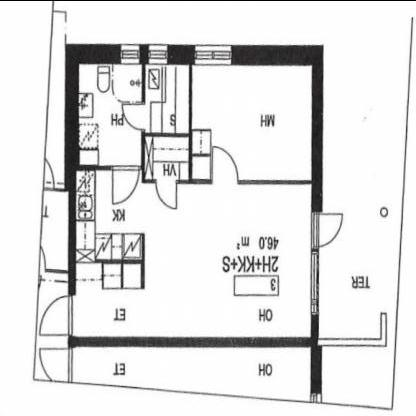door: (37, 287, 77, 341), (34, 345, 74, 387), (209, 142, 242, 192), (310, 205, 345, 249), (108, 162, 141, 208), (153, 173, 179, 211)
window: (188, 35, 234, 73), (307, 251, 322, 317), (144, 36, 172, 67), (116, 39, 142, 69)
